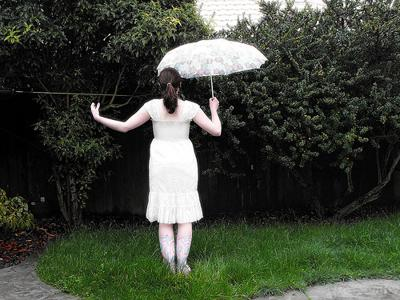person: (91, 67, 222, 274)
